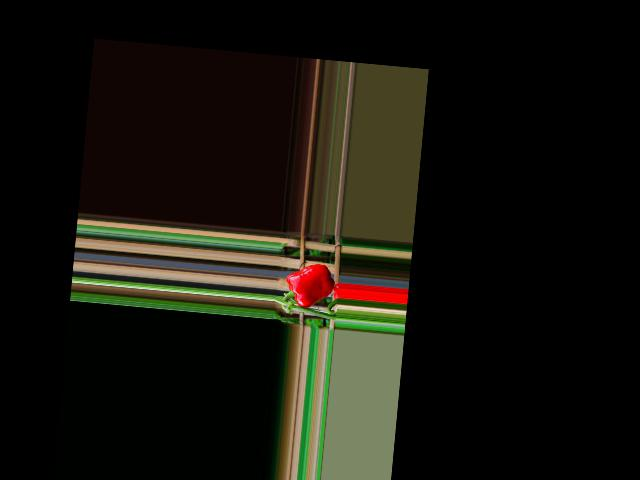bell_pepper: (283, 257, 335, 313)
